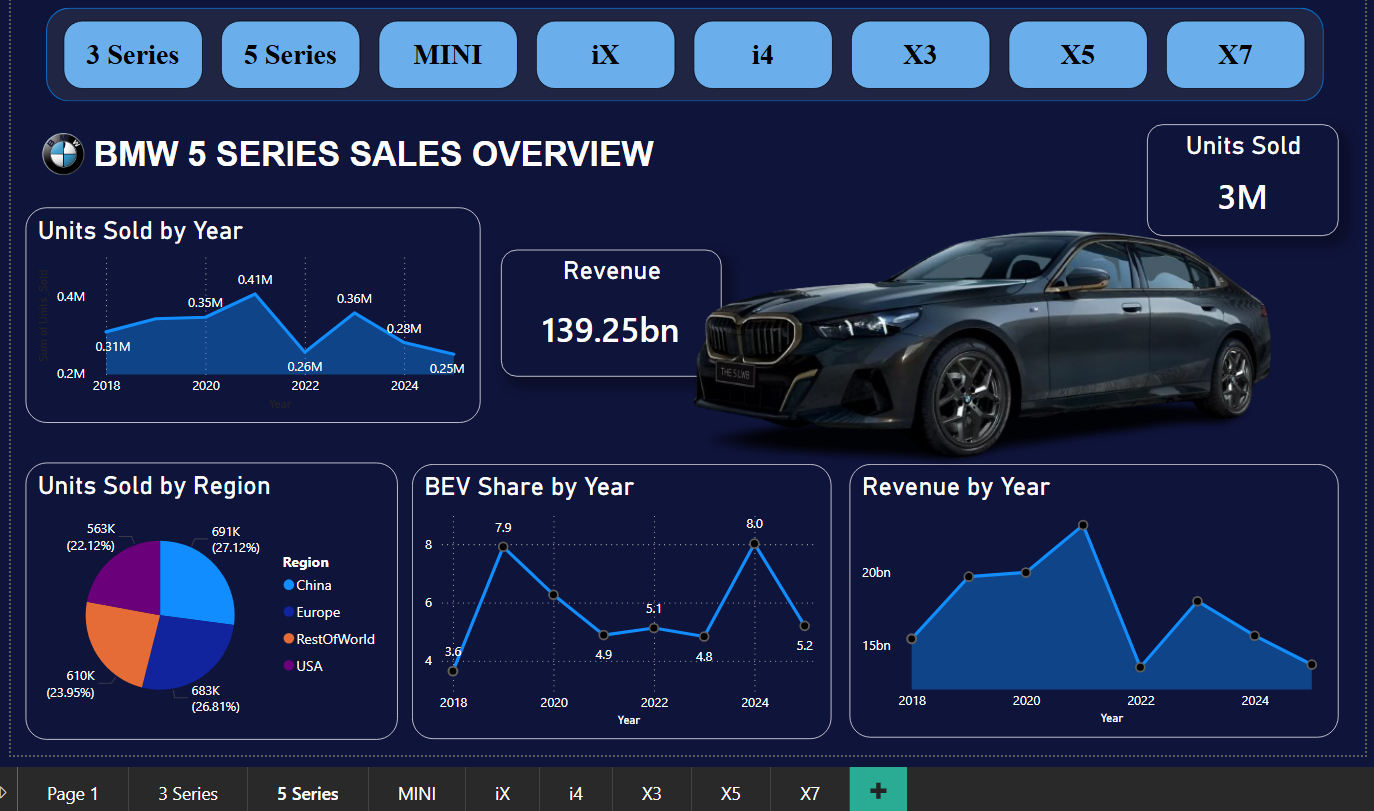

Layout of this report page (visuals, bound fields, positions):
{"tool":"powerbi","page":{"name":"5 Series","canvas":[1280,720],"ordinal":2},"visuals":[{"type":"shape","box":[33.7,13.8,1207.6,88.8],"z":0},{"type":"actionButton","box":[49,26,131.6,64.3],"z":1000},{"type":"actionButton","box":[197.9,26,131.6,64.3],"z":2000},{"type":"actionButton","box":[346.7,26,131.6,64.3],"z":3000},{"type":"actionButton","box":[495.6,26,131.6,64.3],"z":4000},{"type":"actionButton","box":[644.5,26,131.6,64.3],"z":5000},{"type":"actionButton","box":[793.4,26,131.6,64.3],"z":6000},{"type":"actionButton","box":[942.3,26,131.6,64.3],"z":7000},{"type":"actionButton","box":[1091.2,26,131.6,64.3],"z":8000},{"type":"lineChart","title":"Units Sold by Year","fields":{"Y":["Sum(Sheet1.Units_Sold)"],"Category":["Sheet1.Year"]},"box":[13.8,202,430.1,203.6],"z":9000},{"type":"pieChart","title":"Units Sold by Region","fields":{"Category":["Sheet1.Region"],"Y":["Sum(Sheet1.Units_Sold)"]},"box":[13.8,443.8,352,261.7],"z":10000},{"type":"lineChart","title":"BEV Share by Year","fields":{"Y":["Avg(Sheet1.BEV_Share_%)"],"Category":["Sheet1.Year"]},"box":[379.6,445.4,396.4,260.2],"z":11000},{"type":"cardVisual","title":"Units Sold","fields":{"Data":["Sum(Sheet1.Units_Sold)"]},"box":[1073.9,124.6,181.2,105.8],"z":12000},{"type":"areaChart","title":"Revenue by Year","fields":{"Category":["Sheet1.Year"],"Y":["Sum(Sheet1.Revenue)"]},"box":[792.8,445.4,462.2,258.7],"z":14000},{"type":"image","box":[24.5,131.6,49,39.8],"z":15000},{"type":"cardVisual","title":"Revenue","fields":{"Data":["Sum(Sheet1.Revenue)"]},"box":[462.4,242.9,208.6,119.9],"z":16000},{"type":"textbox","box":[73.2,129.2,554.3,48.3],"z":17000},{"type":"image","box":[562.1,119.9,717.8,403.2],"z":17500}]}

Visuals, with their boxes on the page's 1280x720 design canvas (x1, y1, x2, y2). These are canvas units, not pixel positions in the 1374x811 screenshot, which may show the page scaled, cropped or inside an application window:
shape: rect(34, 14, 1241, 103)
actionButton: rect(49, 26, 181, 90)
actionButton: rect(198, 26, 330, 90)
actionButton: rect(347, 26, 478, 90)
actionButton: rect(496, 26, 627, 90)
actionButton: rect(644, 26, 776, 90)
actionButton: rect(793, 26, 925, 90)
actionButton: rect(942, 26, 1074, 90)
actionButton: rect(1091, 26, 1223, 90)
"Units Sold by Year" lineChart: rect(14, 202, 444, 406)
"Units Sold by Region" pieChart: rect(14, 444, 366, 706)
"BEV Share by Year" lineChart: rect(380, 445, 776, 706)
"Units Sold" cardVisual: rect(1074, 125, 1255, 230)
"Revenue by Year" areaChart: rect(793, 445, 1255, 704)
image: rect(24, 132, 74, 171)
"Revenue" cardVisual: rect(462, 243, 671, 363)
textbox: rect(73, 129, 628, 178)
image: rect(562, 120, 1280, 523)
